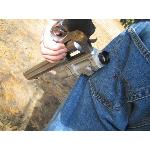Pistol: (23, 19, 111, 80)
